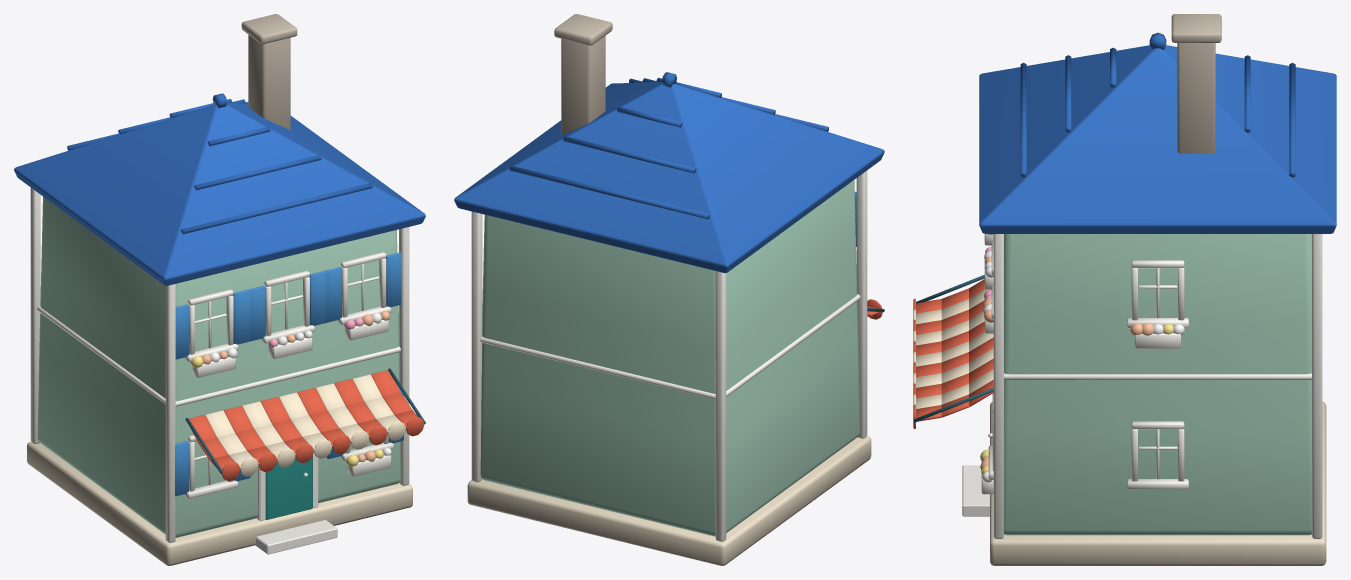
File: house_b.glb
The picture shows the model from 3 angles, left to right: view 1: azimuth 30°, elevation 25°; view 2: azimuth 150°, elevation 25°; view 3: azimuth 270°, elevation 25°; orthographic projection. The views are drawn at different scales.
Visible parts, largest first — view 1: House_B_Wall, House_B_Roof, House_B_Plinth, House_B_Trim, House_B_WindowTrim, House_B_Awning_A, House_B_Awning_B, House_B_Shutters, House_B_Chimney, House_B_RoofTiles, House_B_Door, House_B_DoorFrame (+1 smaller); view 2: House_B_Wall, House_B_Roof, House_B_Plinth, House_B_Trim, House_B_Chimney, House_B_RoofTiles; view 3: House_B_Wall, House_B_Roof, House_B_Plinth, House_B_Trim, House_B_WindowTrim, House_B_Chimney, House_B_Awning_A, House_B_Awning_B, House_B_RoofTiles, House_B_Flowers, House_B_DoorFrame, House_B_AwningRod.
Boxes of the visible parts, <box> form: House_B_Wall: <box>37,196,400,537</box>; House_B_Roof: <box>14,103,425,285</box>; House_B_Plinth: <box>27,442,412,565</box>; House_B_Trim: <box>30,187,409,542</box>; House_B_WindowTrim: <box>185,252,393,498</box>; House_B_Awning_A: <box>189,370,424,481</box>; House_B_Awning_B: <box>205,374,405,476</box>; House_B_Shutters: <box>175,252,403,496</box>; House_B_Chimney: <box>241,14,297,129</box>; House_B_RoofTiles: <box>67,93,372,234</box>; House_B_Door: <box>265,455,312,519</box>; House_B_DoorFrame: <box>255,451,337,554</box>; House_B_Wall: <box>480,180,859,536</box>; House_B_Roof: <box>454,82,884,272</box>; House_B_Plinth: <box>467,436,871,565</box>; House_B_Trim: <box>471,170,867,541</box>; House_B_Chimney: <box>554,14,612,135</box>; House_B_RoofTiles: <box>509,72,828,219</box>; House_B_Wall: <box>1004,234,1311,535</box>; House_B_Roof: <box>979,45,1336,233</box>; House_B_Plinth: <box>990,401,1326,565</box>; House_B_Trim: <box>993,234,1322,538</box>; House_B_WindowTrim: <box>981,234,1188,494</box>; House_B_Chimney: <box>1171,14,1221,153</box>; House_B_Awning_A: <box>913,279,993,429</box>; House_B_Awning_B: <box>913,289,993,408</box>; House_B_RoofTiles: <box>1020,32,1295,177</box>; House_B_Flowers: <box>980,234,1184,482</box>; House_B_DoorFrame: <box>962,433,992,516</box>; House_B_AwningRod: <box>913,274,993,422</box>.
Size of the model in its own units: 5.57 by 8.79 by 6.59.
